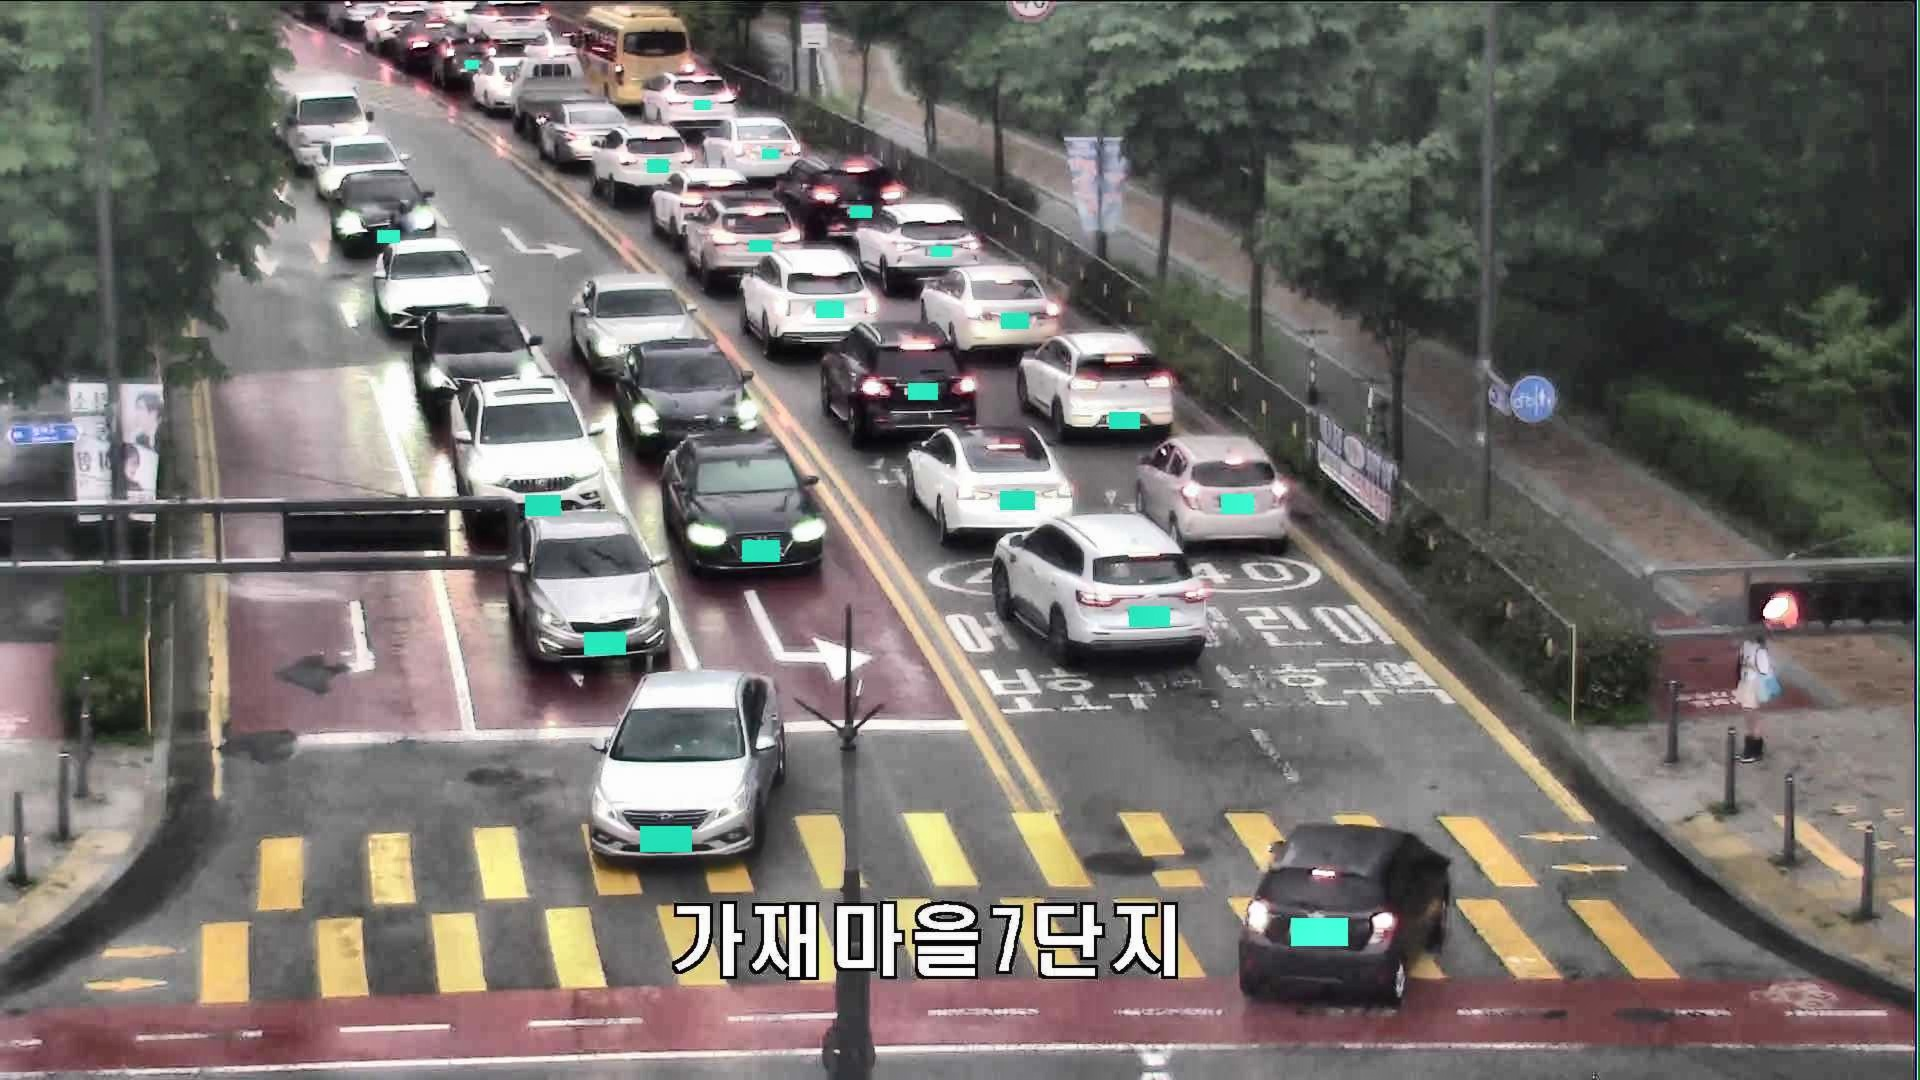um_sidewalk: (1698, 595, 1779, 760)
